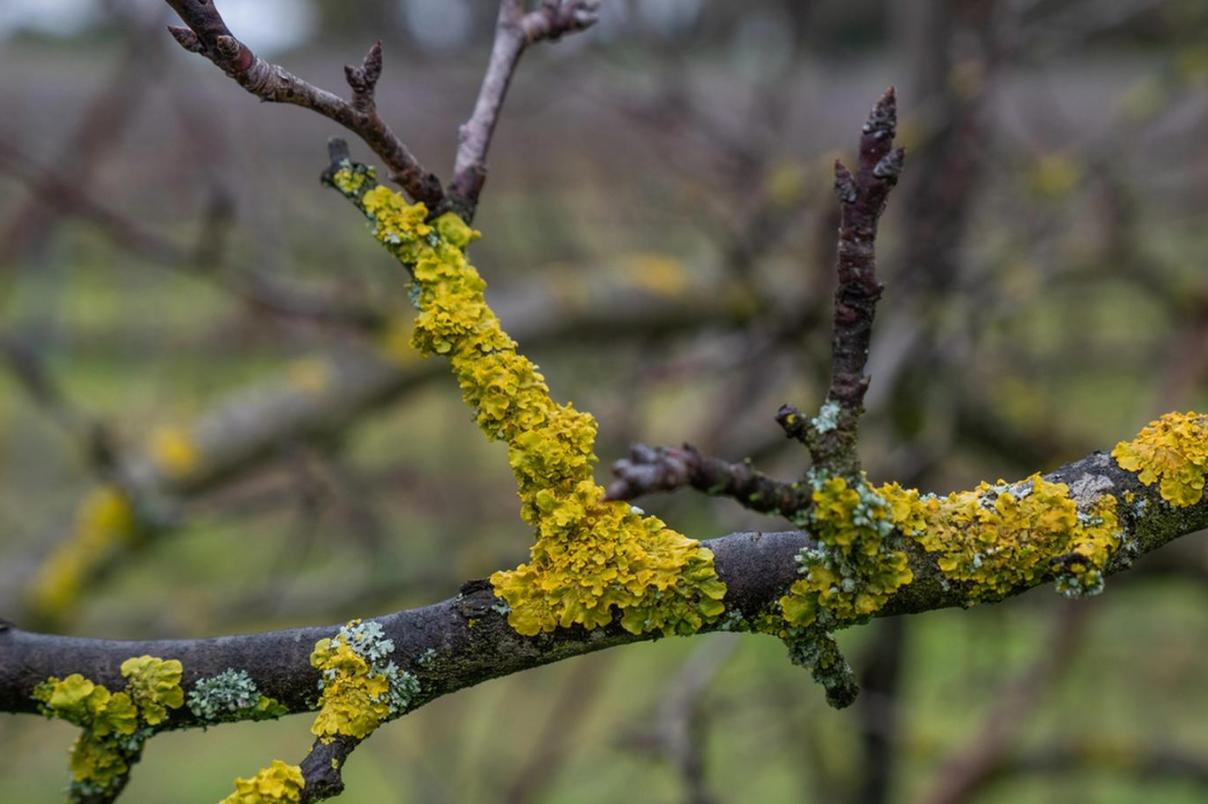lichen: (333, 165, 725, 634), (907, 474, 1120, 602), (32, 656, 183, 803), (781, 473, 912, 625), (311, 620, 417, 743), (1111, 411, 1207, 506), (187, 668, 287, 722), (220, 760, 305, 803)
